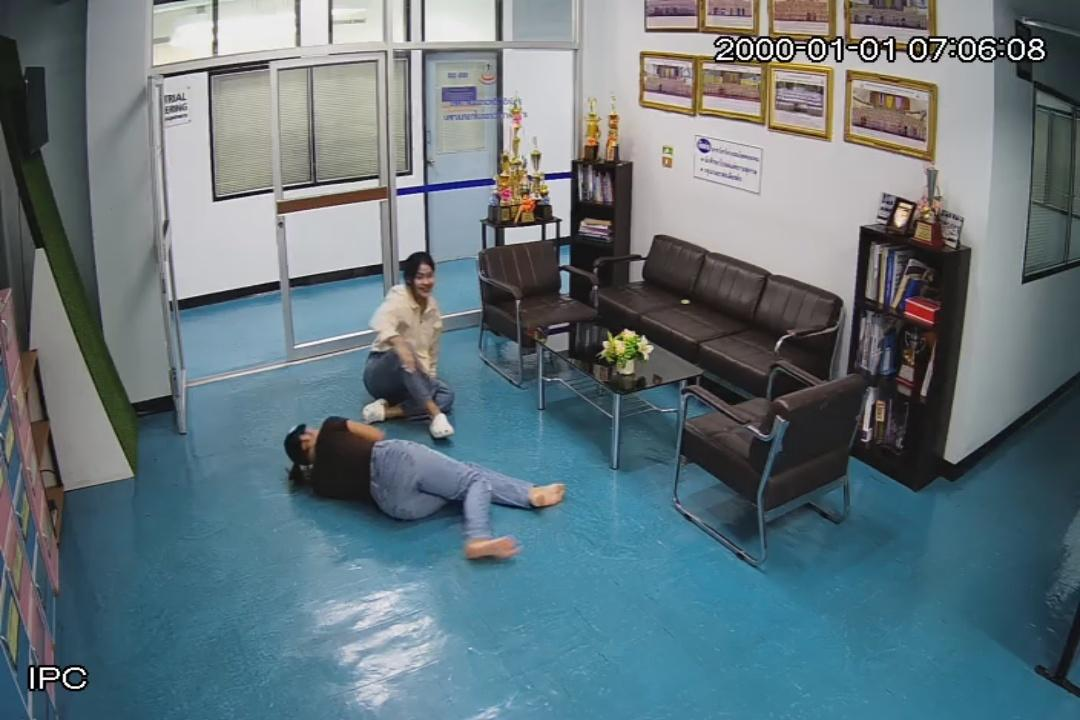fall: (264, 406, 586, 568)
normal: (360, 246, 474, 442)
